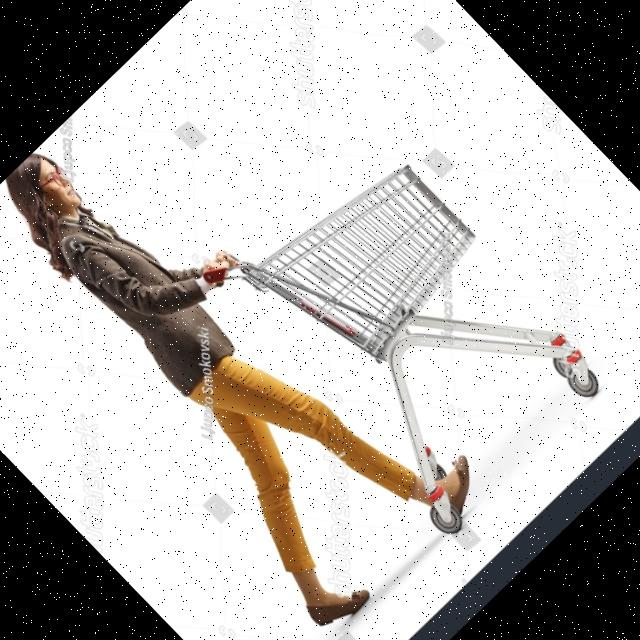Person: (0, 82, 493, 638)
